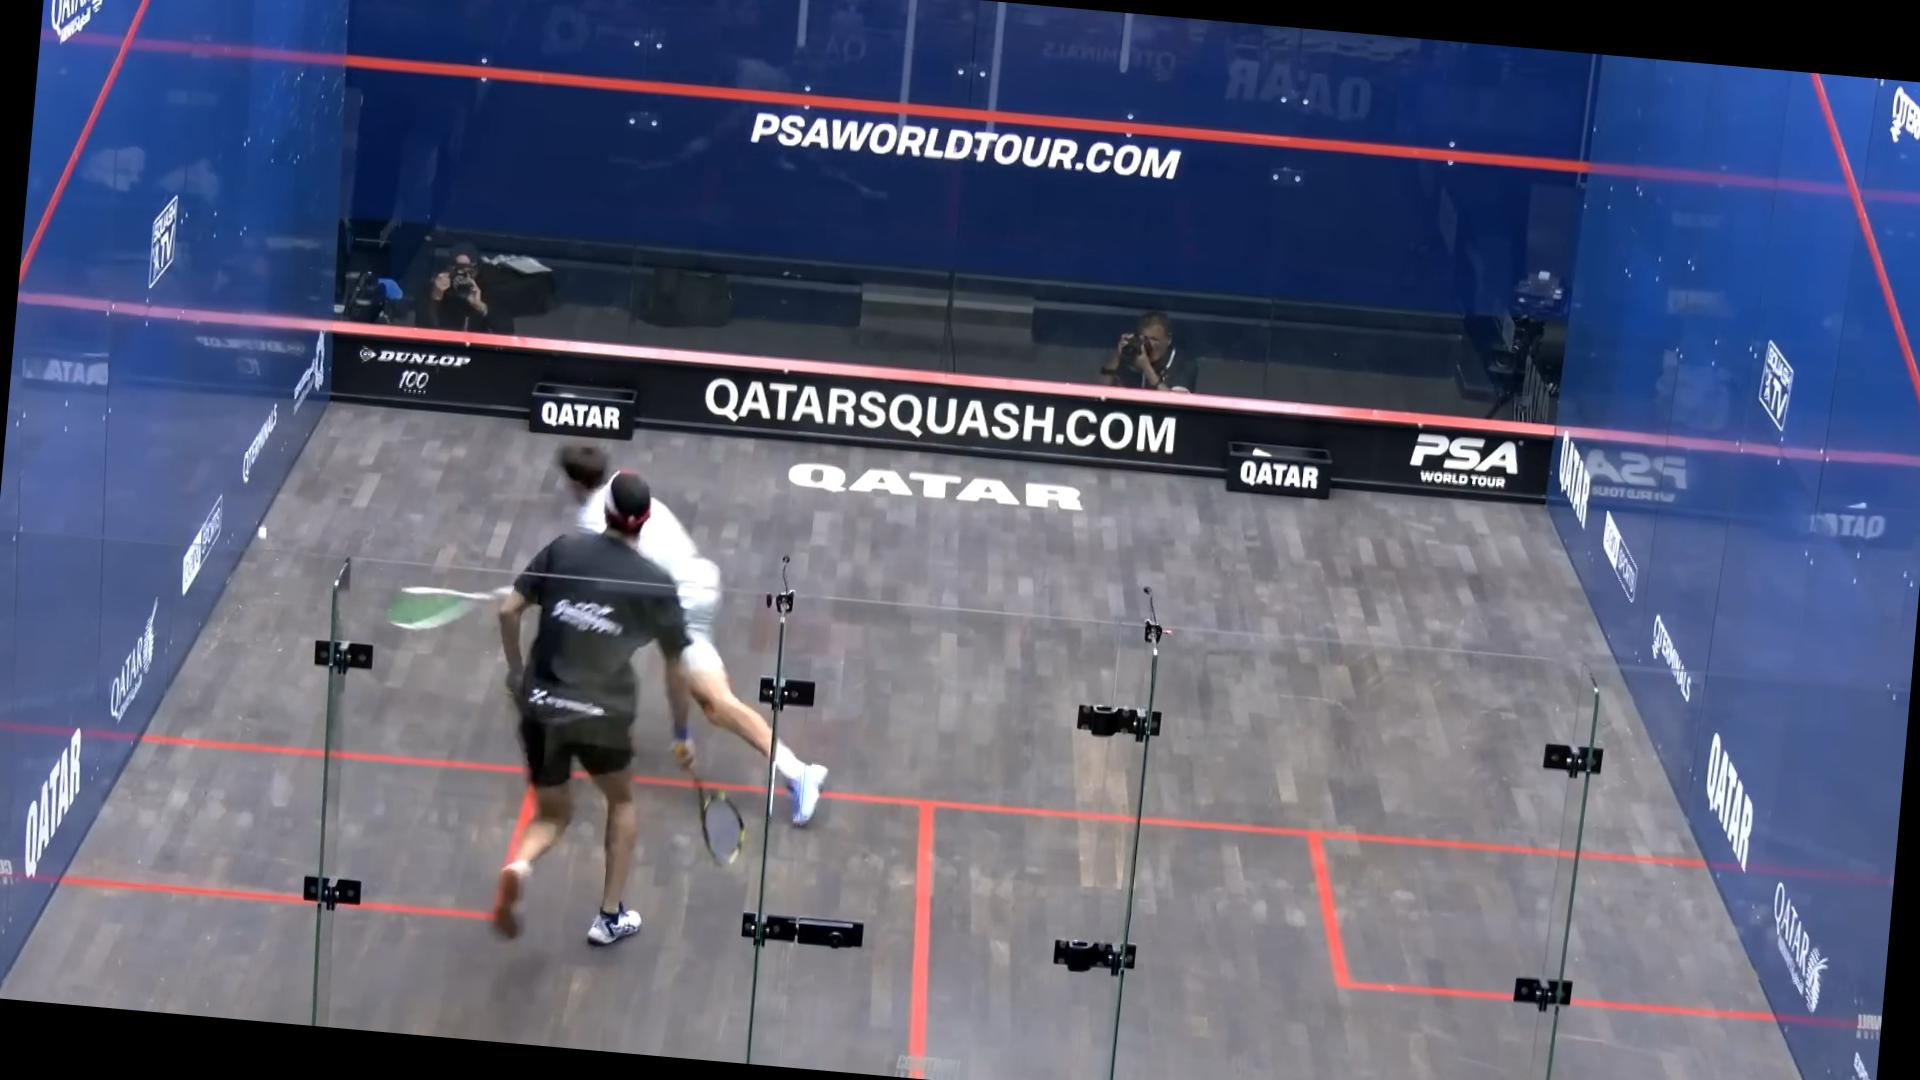Racket: (381, 571, 504, 646), (679, 764, 757, 874)
